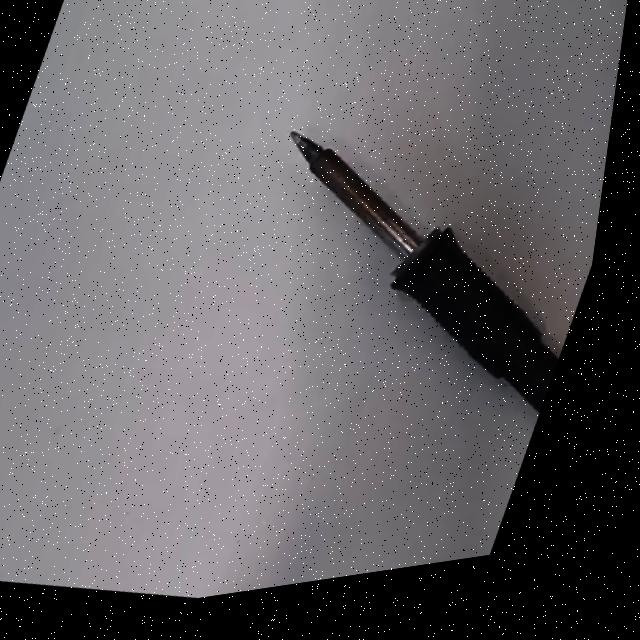soldering_iron: (189, 82, 616, 464)
